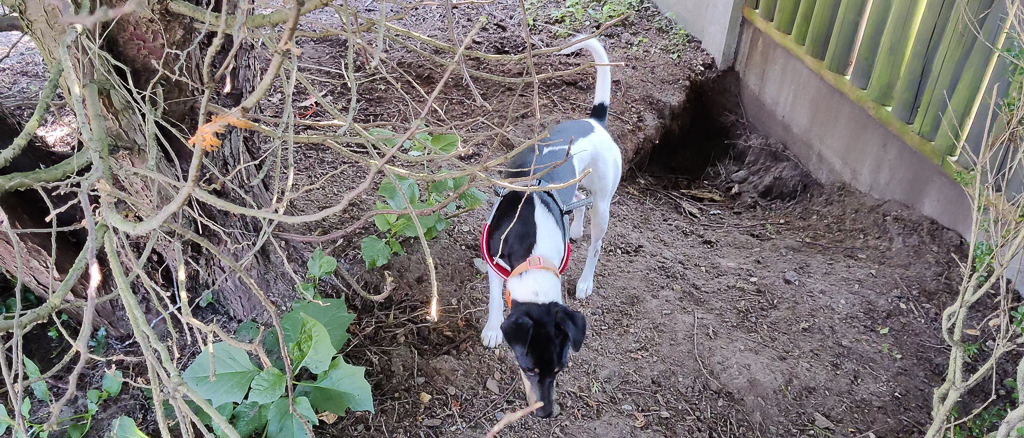Dog: (445, 31, 630, 426)
